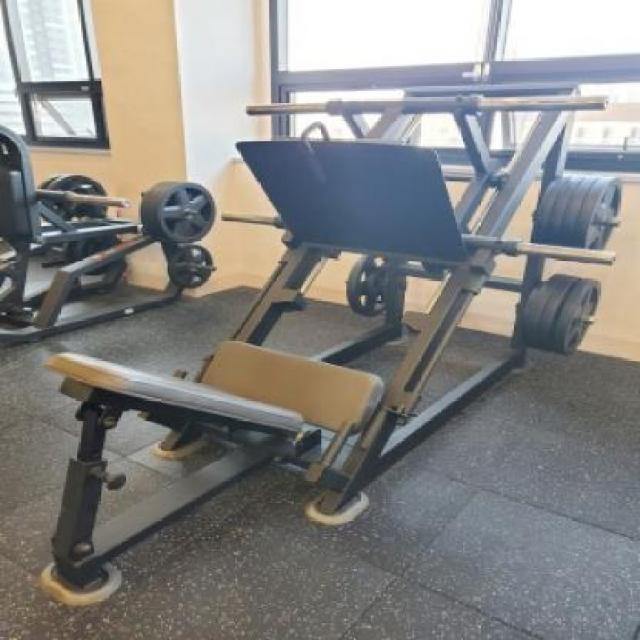leg press: (31, 63, 632, 608)
